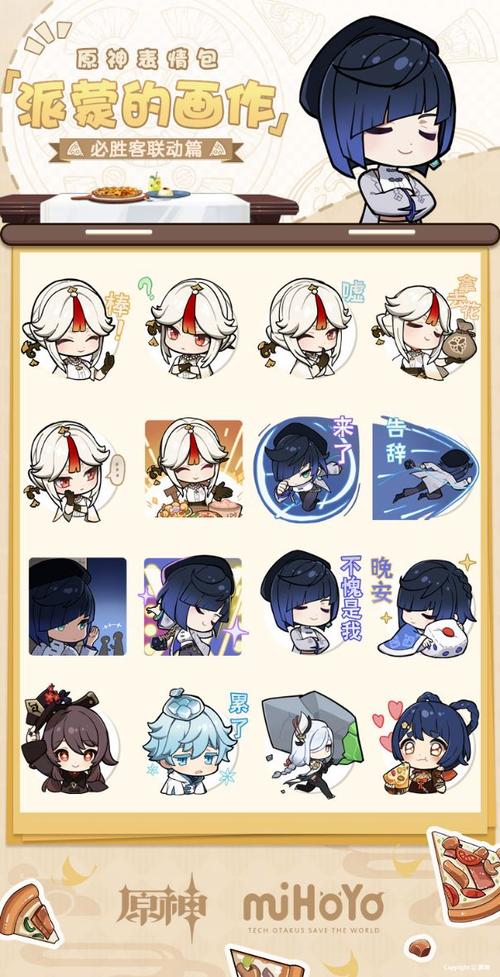夜兰: (294, 9, 465, 226), (382, 557, 477, 663), (375, 427, 481, 521), (143, 554, 234, 662), (255, 550, 341, 659), (257, 418, 348, 518), (29, 559, 114, 658)
